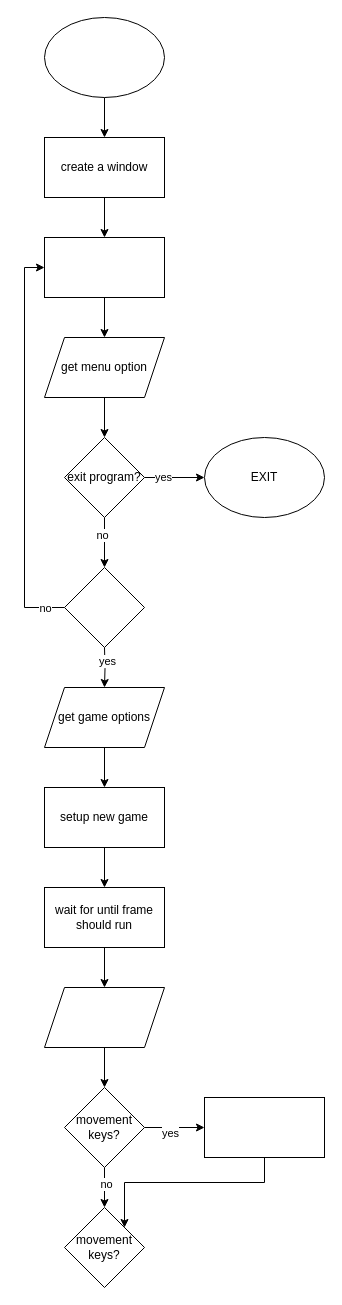
Some shapes in this 342 by 1305 pixel diagram are drawn without their labels. Each missing label, with the box of its shape:
draw main menu: (44, 236, 164, 298)
get player input: (44, 986, 164, 1048)
move piece: (204, 1096, 324, 1158)
new game?: (64, 566, 144, 648)
START: (44, 16, 164, 98)
